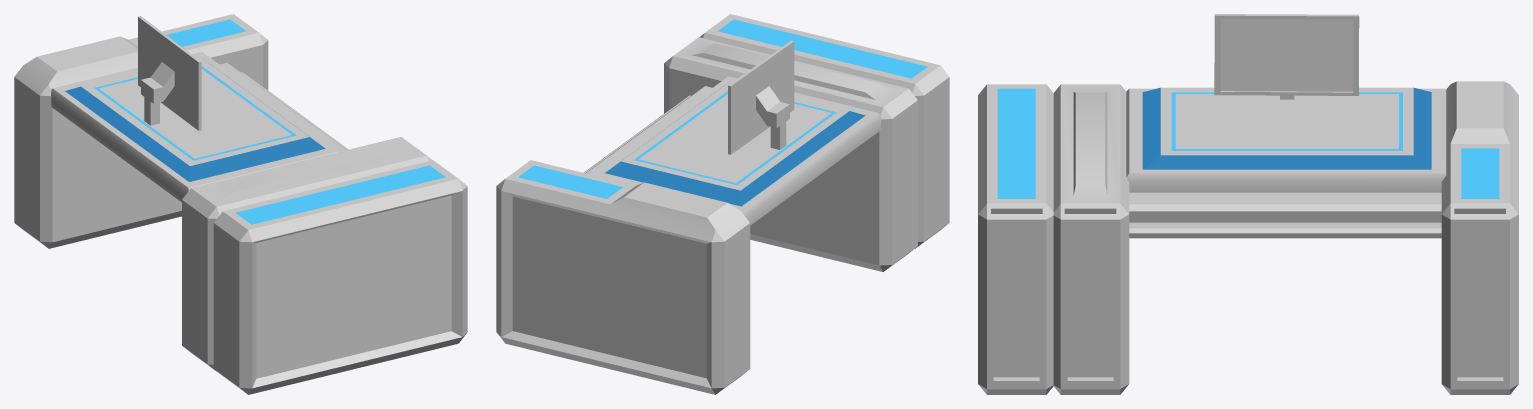
Rendered from WeaponUpgrade.fbx.
3 renders of one model, left to right at view 1: azimuth 30°, elevation 25°; view 2: azimuth 150°, elevation 25°; view 3: azimuth 270°, elevation 25°, orthographic. The views are drawn at different scales.
Parts seen in each view (by area): view 1: WeaponUpgrade2, WeaponUpgrade2Monitor; view 2: WeaponUpgrade2, WeaponUpgrade2Monitor; view 3: WeaponUpgrade2, WeaponUpgrade2Monitor.
Part boxes in pixels (x1,y1,x2,y2): WeaponUpgrade2: (14,14,467,394); WeaponUpgrade2Monitor: (138,16,201,130); WeaponUpgrade2: (496,14,949,394); WeaponUpgrade2Monitor: (728,40,794,154); WeaponUpgrade2: (978,81,1518,394); WeaponUpgrade2Monitor: (1214,14,1359,99).
Bounding box in the file's own units: 129 × 134 × 227.
